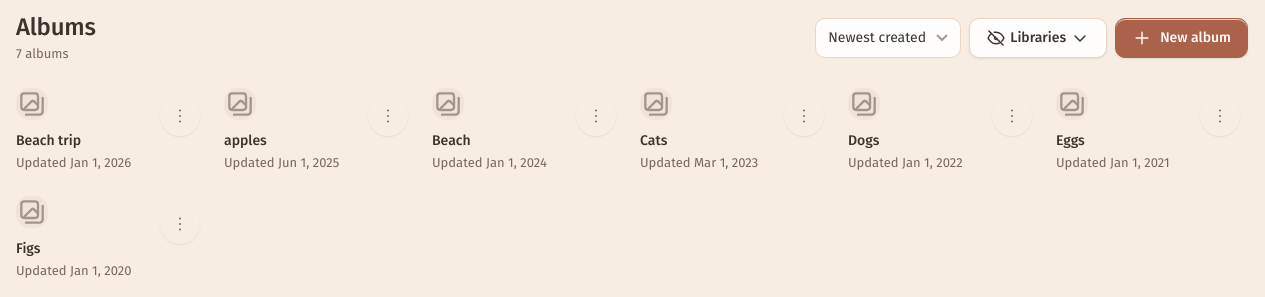
Test case: Albums: sort, pins, hidden libraries › hides a library's albums, and a search shows them folded away
The image size is (1265, 297).
Click the button with test id "album-libraries-button" at (1038, 38), box [969,18,1107,58]
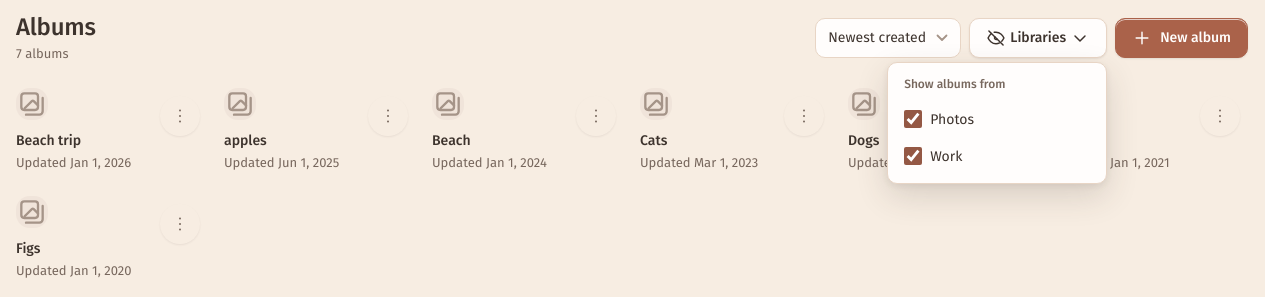
Click the checkbox labelled "Work" at (913, 156), box [904,147,922,165]
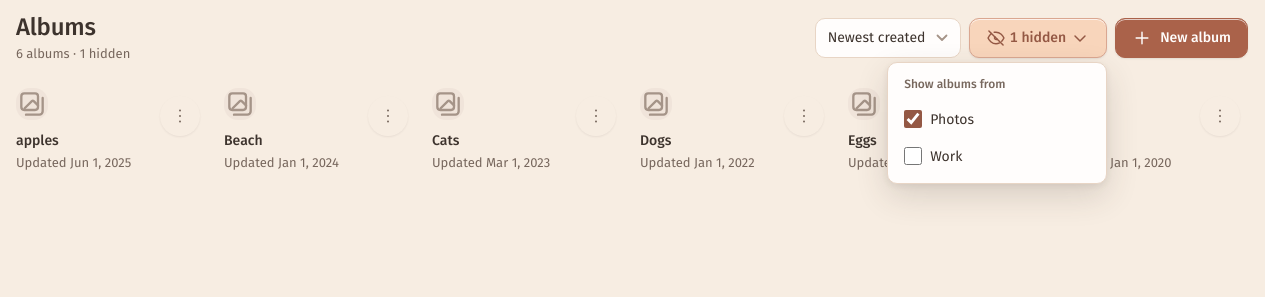
Expected: the button "Beach trip" no longer shows "Beach trip"
